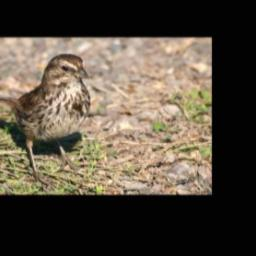Sparrow: (0, 53, 91, 186)
